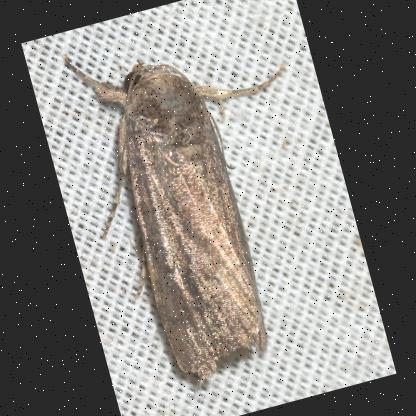Fall Armyworm Moth: (49, 0, 363, 405)
